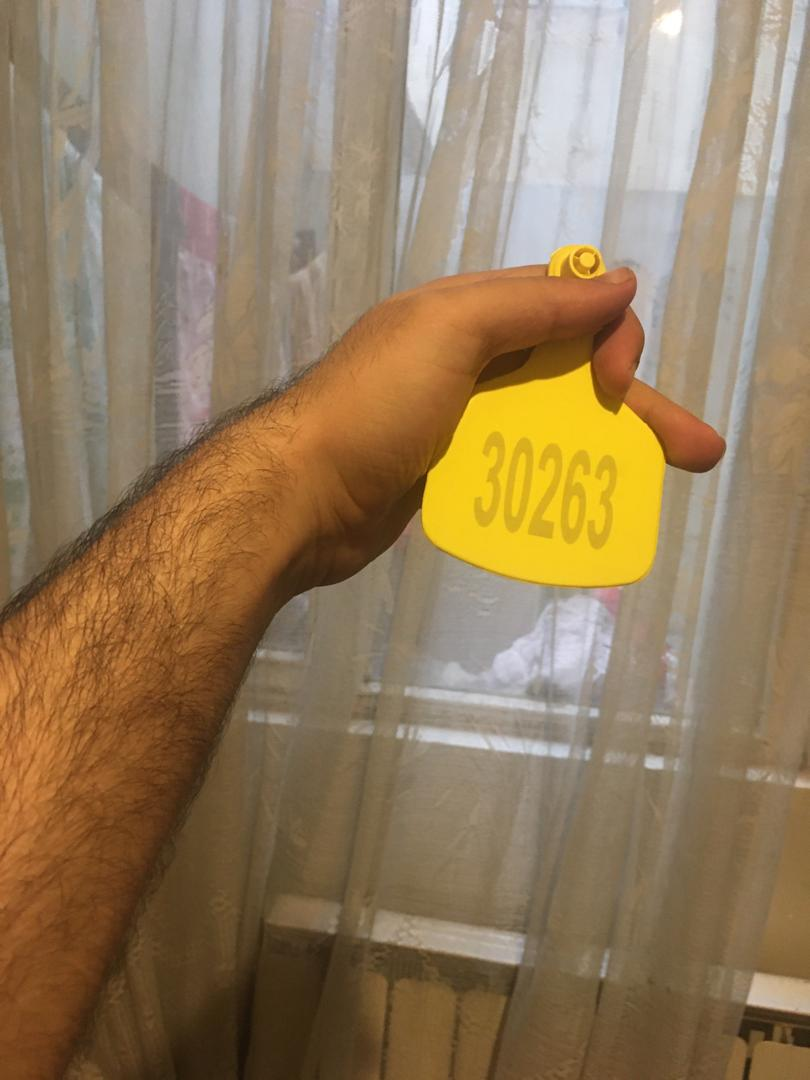digit: (473, 422, 621, 548)
